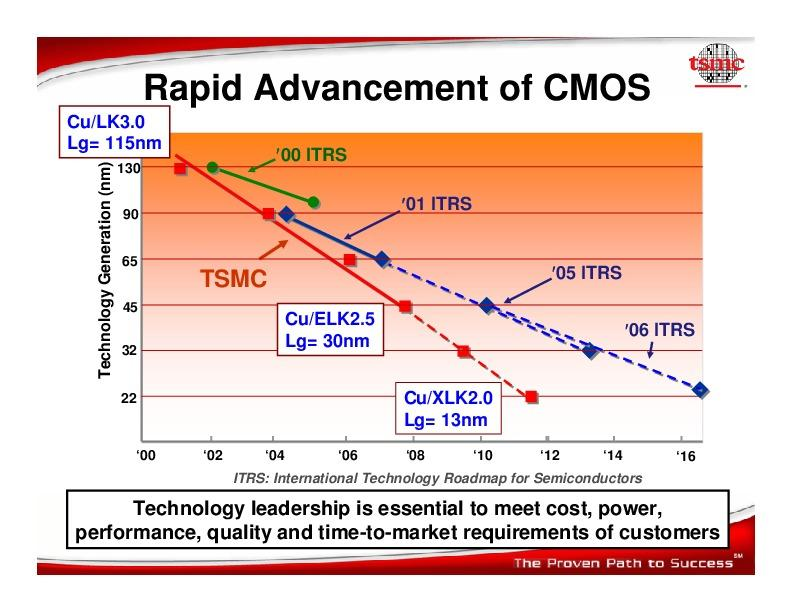title: (141, 66, 652, 107)
